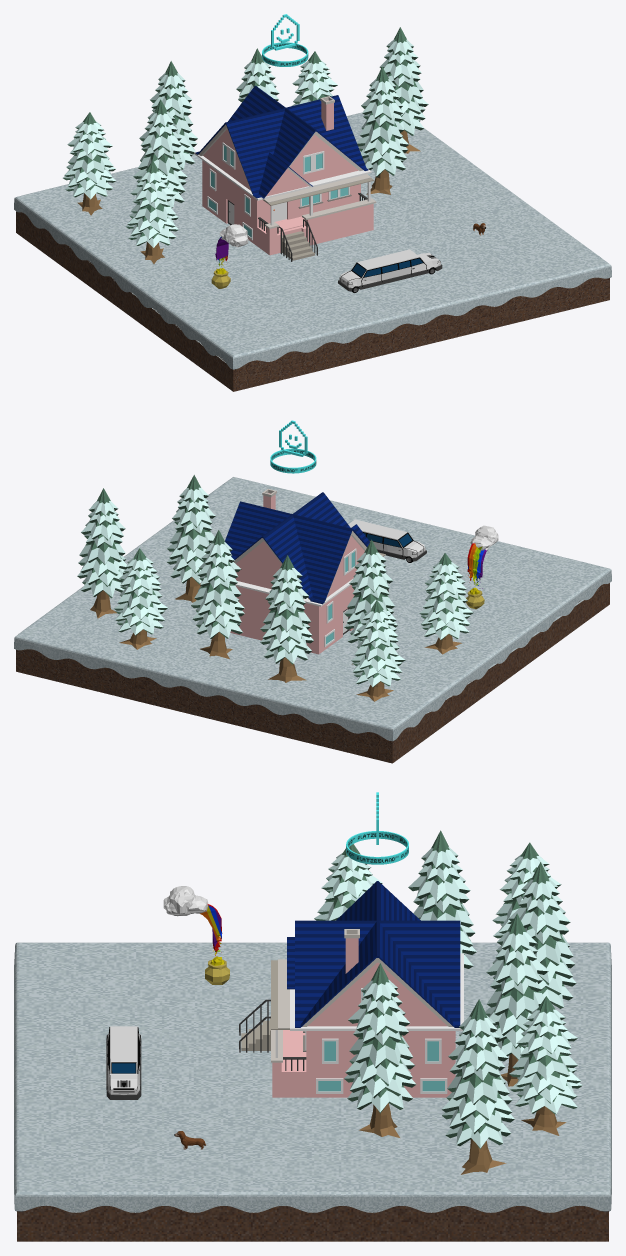
3 views of the same model, one above another, from view 1: azimuth 30°, elevation 25°; view 2: azimuth 150°, elevation 25°; view 3: azimuth 270°, elevation 25° (orthographic). The views are drawn at different scales.
Visible parts, largest first — view 1: Cube.003, Cube.313, VEHICLES_LIMOUSINE, OBJRANDOM_RAINBOW, TYPE_PREMIUM; view 2: Cube.003, Cube.313, VEHICLES_LIMOUSINE, OBJRANDOM_RAINBOW, TYPE_PREMIUM; view 3: Cube.003, Cube.313, VEHICLES_LIMOUSINE, OBJRANDOM_RAINBOW, TYPE_PREMIUM.
Boxes of the visible parts, x1=… form: Cube.003: x1=14, y1=27, x2=611, y2=391; Cube.313: x1=194, y1=85, x2=376, y2=261; VEHICLES_LIMOUSINE: x1=338, y1=249, x2=442, y2=292; OBJRANDOM_RAINBOW: x1=211, y1=224, x2=248, y2=288; TYPE_PREMIUM: x1=262, y1=14, x2=308, y2=66; Cube.003: x1=14, y1=475, x2=611, y2=763; Cube.313: x1=225, y1=489, x2=388, y2=654; VEHICLES_LIMOUSINE: x1=348, y1=519, x2=426, y2=562; OBJRANDOM_RAINBOW: x1=466, y1=525, x2=498, y2=609; TYPE_PREMIUM: x1=270, y1=420, x2=316, y2=473; Cube.003: x1=14, y1=830, x2=611, y2=1241; Cube.313: x1=239, y1=881, x2=463, y2=1097; VEHICLES_LIMOUSINE: x1=106, y1=1026, x2=141, y2=1099; OBJRANDOM_RAINBOW: x1=163, y1=886, x2=229, y2=984; TYPE_PREMIUM: x1=346, y1=792, x2=408, y2=864.
Bounding box in the file's own units: 4040 × 2619 × 4040.
40 materials, 4 textured.
